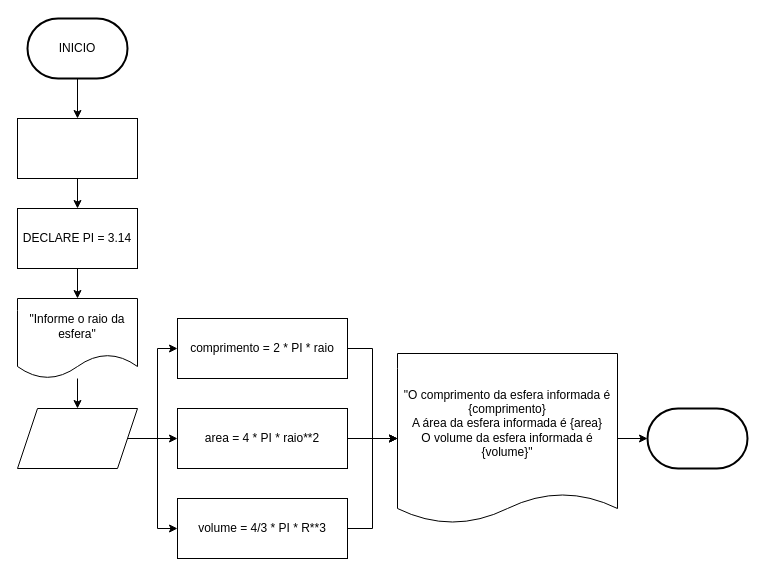
Image size: 766x576. Some labels were removed from this diagram. The centre of each missing label's shape, as x and y in pixels:
DECLARE raio, comprimento, area e volume: point 77,148
FIM: point 697,438
LEIA raio: point 77,438
